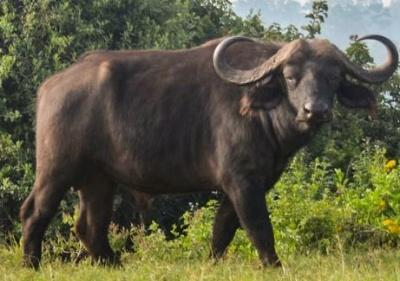buffalo: (20, 35, 397, 267)
